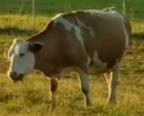cow: (8, 10, 131, 106)
